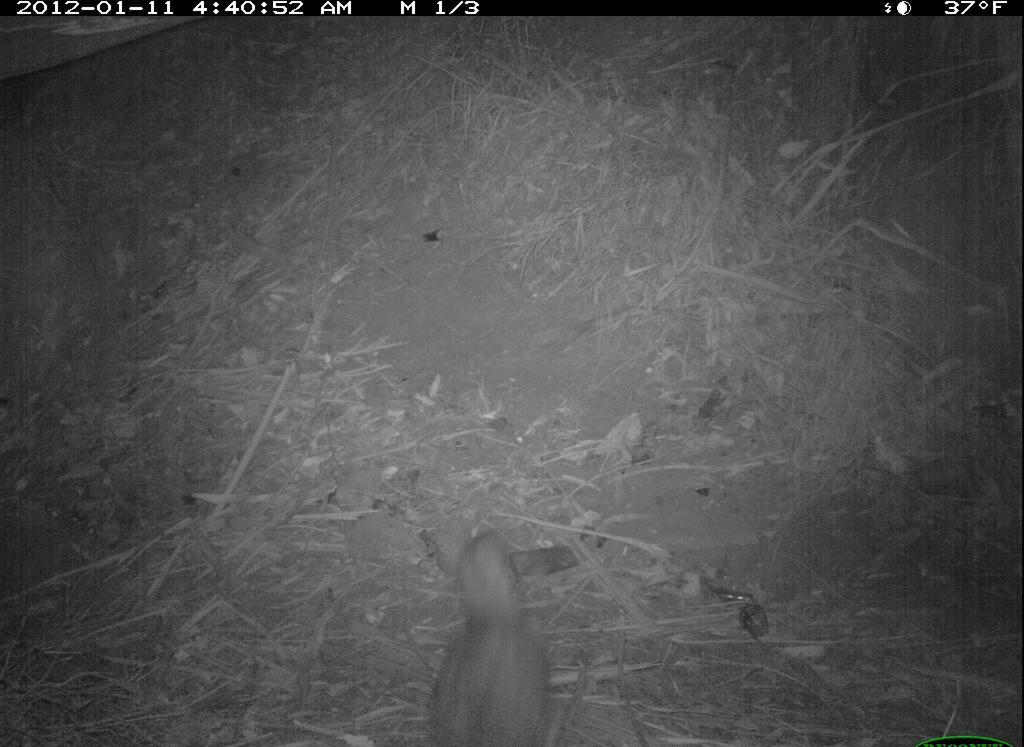cat: (420, 510, 592, 747)
